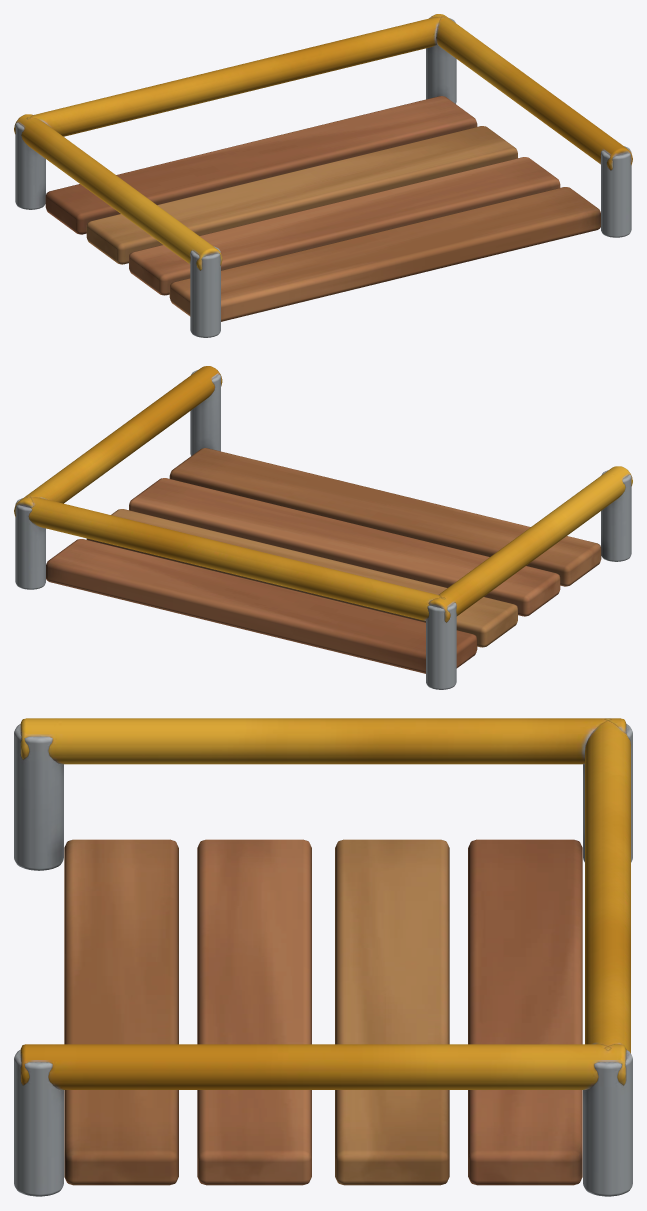
Rendered from cargo_rack-v001.glb.
3 renders of one model, top to bottom at view 1: azimuth 30°, elevation 25°; view 2: azimuth 150°, elevation 25°; view 3: azimuth 270°, elevation 25°, orthographic. The views are drawn at different scales.
Parts seen in each view (by area): view 1: CargoRack; view 2: CargoRack; view 3: CargoRack.
Part boxes in pixels (bbox=[...]): CargoRack: bbox=[14, 14, 632, 337]; CargoRack: bbox=[14, 366, 632, 689]; CargoRack: bbox=[14, 718, 632, 1196].
Bounding box in the file's own units: 0.8945 × 0.1761 × 0.6745.
Materials: 1 (1 with a texture image).
